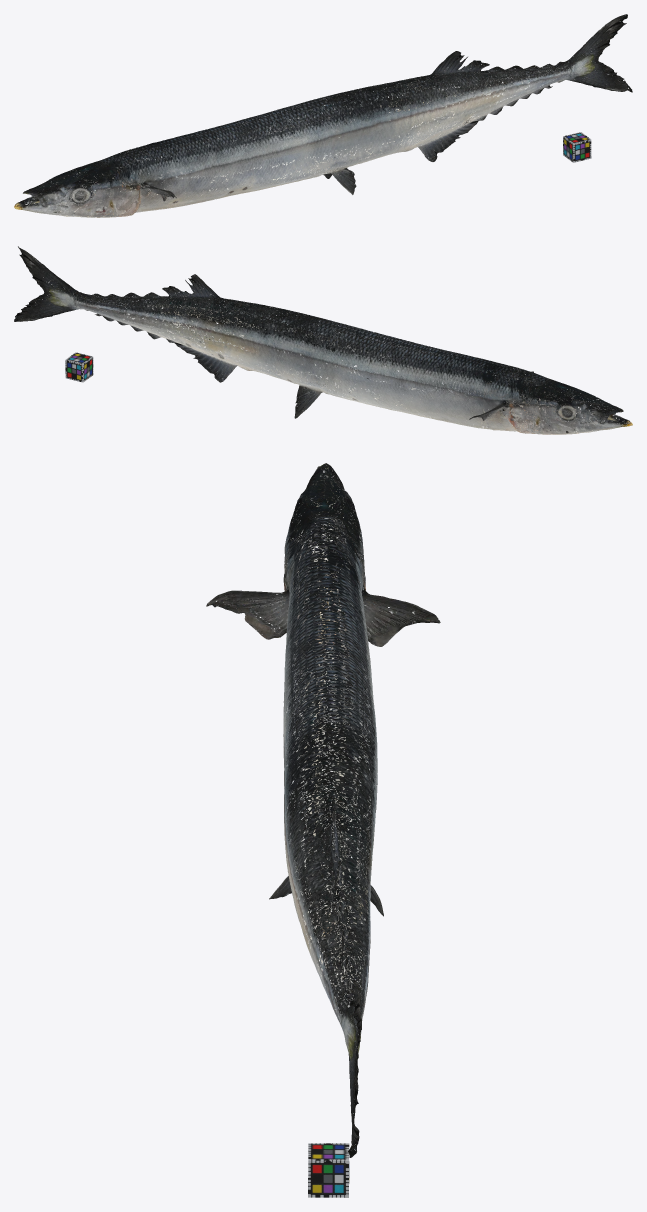
Rendered from scan_saury.glb.
The picture shows the model from 3 angles, top to bottom: view 1: azimuth 30°, elevation 25°; view 2: azimuth 150°, elevation 25°; view 3: azimuth 270°, elevation 25°; orthographic projection. The views are drawn at different scales.
Visible parts, largest first — view 1: Object_6, Object_13, Object_4; view 2: Object_6, Object_13, Object_4; view 3: Object_6, Object_13, Object_4.
Part boxes in pixels (x1,y1,x2,y2): Object_6: (14,15,632,217); Object_13: (14,14,632,217); Object_4: (563,132,591,162); Object_6: (15,249,632,434); Object_13: (14,246,632,434); Object_4: (65,352,93,382); Object_6: (207,463,440,1157); Object_13: (206,463,439,1157); Object_4: (308,1143,349,1197).
Size of the model in its own units: 17.41 by 3.58 by 2.89.
Materials: 3 (3 with a texture image).
